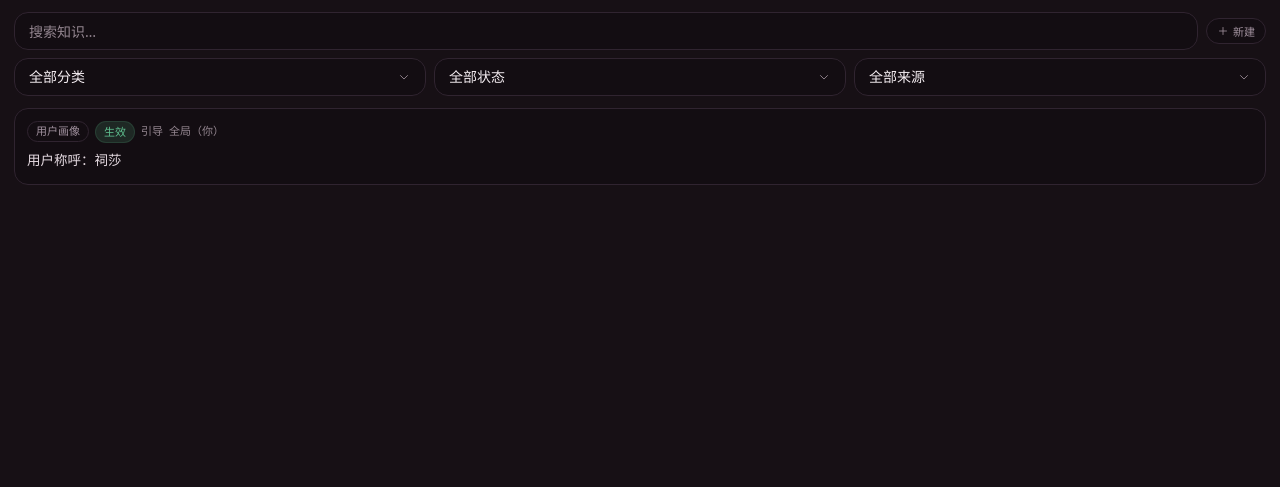
Test: 知识看得懂：来源、范围与结束 › 可以在知识页把适用范围改成只在某个话题里生效
Click the button "用户画像 生效 引导 全局（你） 用户称呼：祠莎" at (58, 132), box [14,108,1266,184]
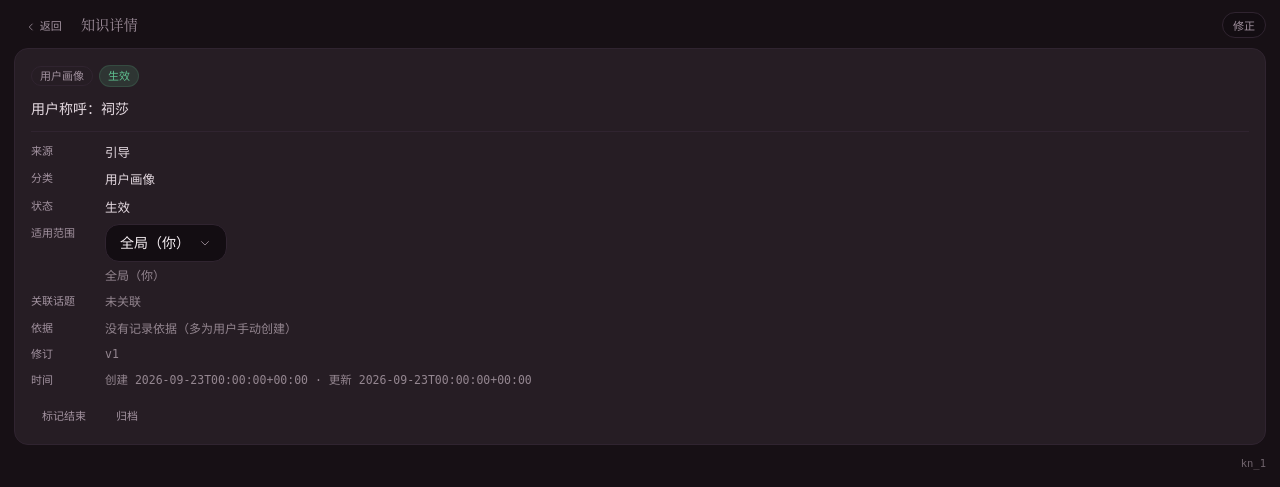
Expected: the dropdown with class "k-scope-select" is shown, [105,224,227,262]
